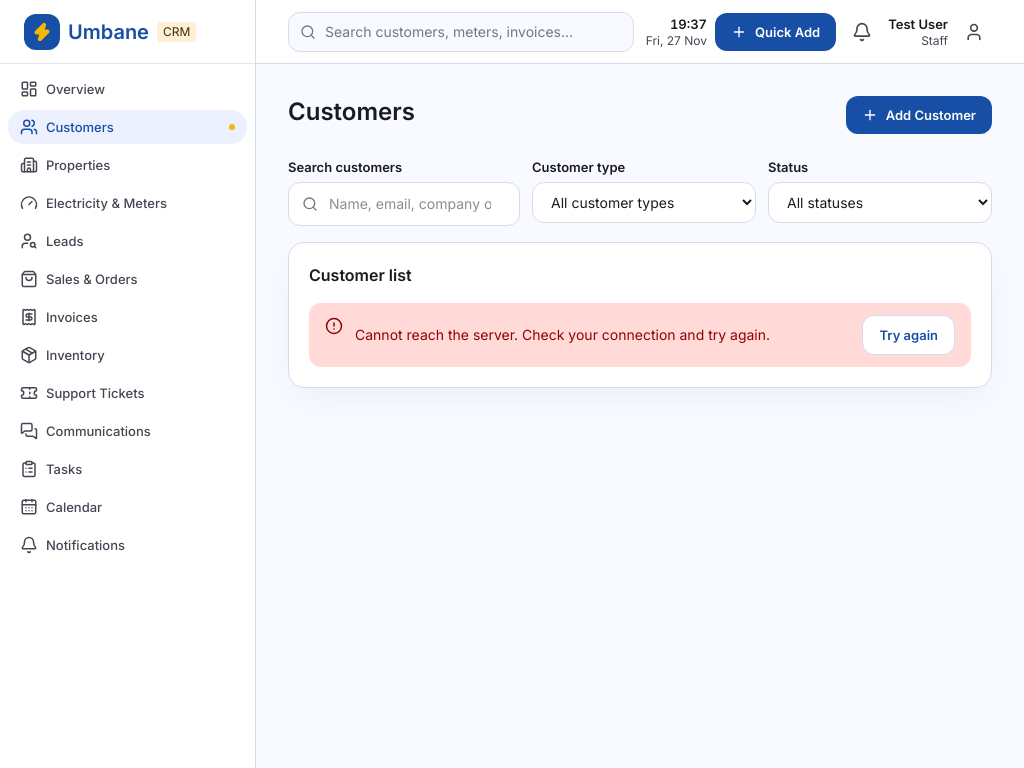
Test case: customer list › shows an error with a retry
Check: the message shows "Cannot reach the server", box [355,326,770,343]
Click the button "Try again".
click(909, 335)  # box [862,315,955,355]
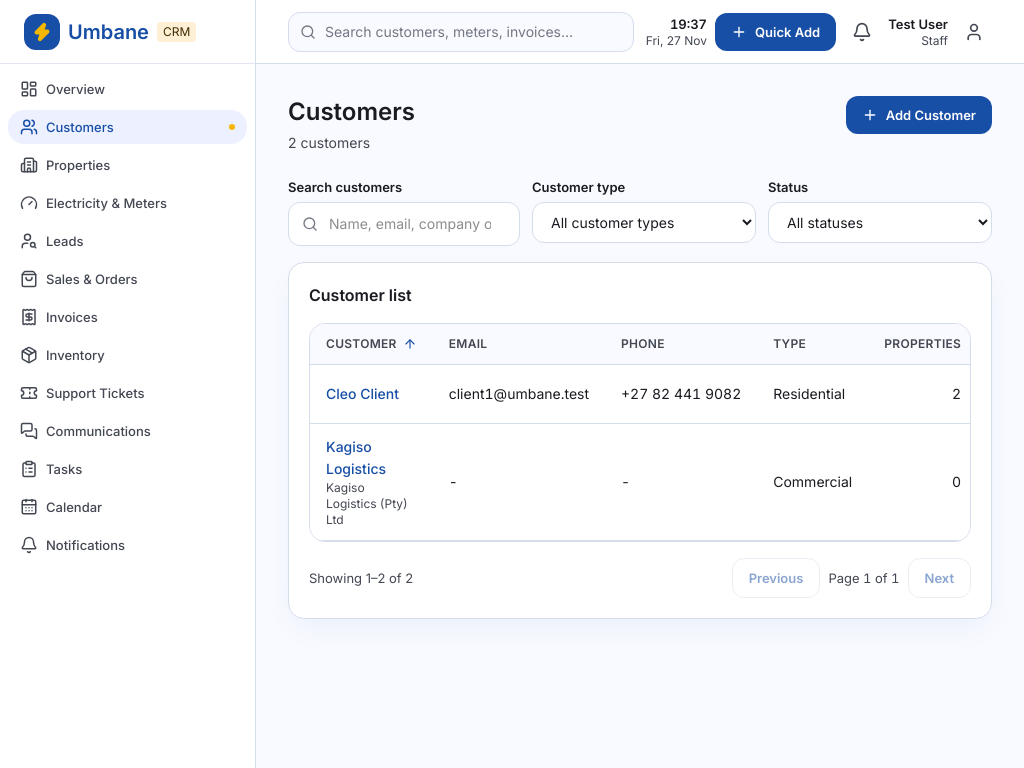
Check: the link "Cleo Client" is shown, box [326,385,399,402]
